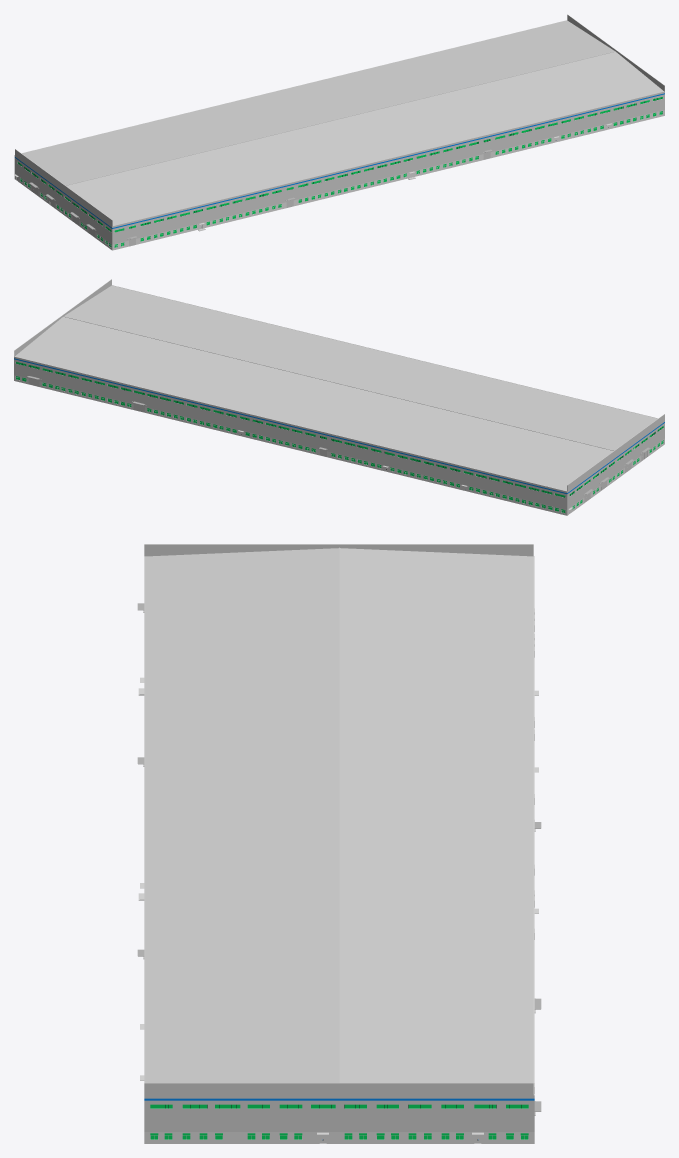
Rendered from 2号厂房.fbx.
3 views of the same model, one above another, from view 1: azimuth 30°, elevation 25°; view 2: azimuth 150°, elevation 25°; view 3: azimuth 270°, elevation 25° (orthographic). The views are drawn at different scales.
Parts seen in each view (by area): view 1: 2号厂房屋顶, 2号厂房建筑; view 2: 2号厂房屋顶, 2号厂房建筑; view 3: 2号厂房屋顶, 2号厂房建筑.
Part boxes in pixels (x1,y1,x2,y2): 2号厂房屋顶: [15, 14, 664, 226]; 2号厂房建筑: [14, 20, 664, 250]; 2号厂房屋顶: [14, 279, 664, 491]; 2号厂房建筑: [14, 285, 664, 515]; 2号厂房屋顶: [144, 544, 533, 1095]; 2号厂房建筑: [137, 556, 541, 1143].
Bounding box in the file's own units: 31529 × 1665 × 9886.
